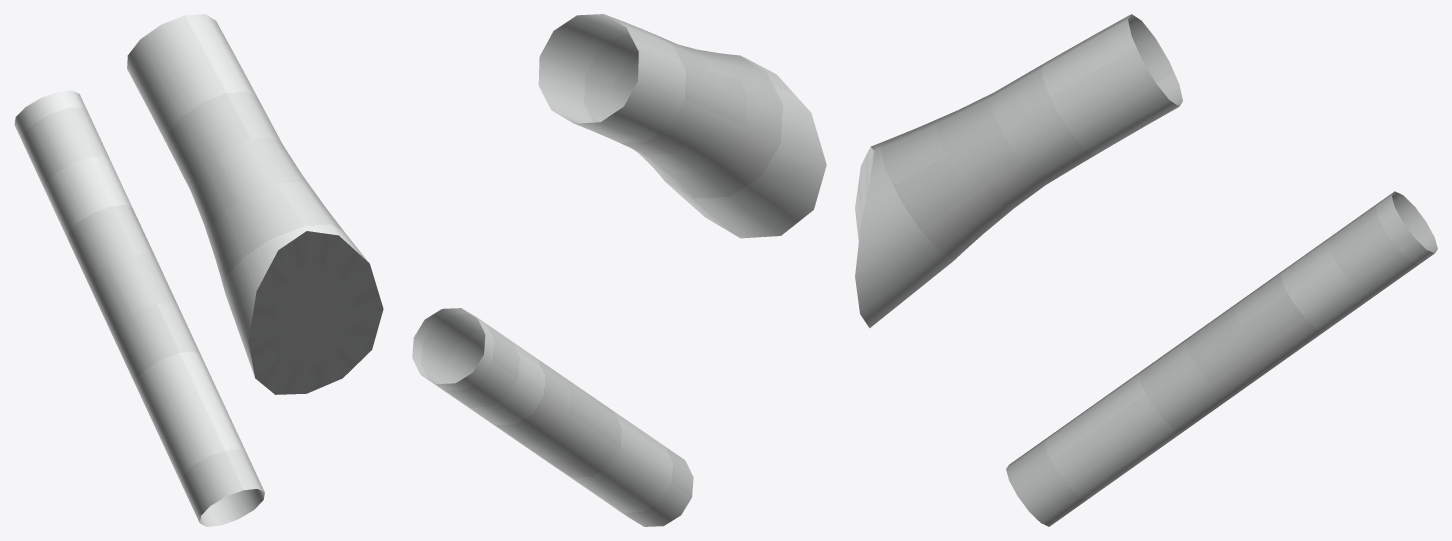
The model's file is luminairearm_truss10ftdouble_c0.obj.
3 renders of one model, left to right at view 1: azimuth 30°, elevation 25°; view 2: azimuth 150°, elevation 25°; view 3: azimuth 270°, elevation 25°, orthographic. The views are drawn at different scales.
Visible parts, largest first — view 1: luminairearm_truss10ftdouble_c0; view 2: luminairearm_truss10ftdouble_c0; view 3: luminairearm_truss10ftdouble_c0.
Part boxes in pixels (x1,y1,x2,y2): luminairearm_truss10ftdouble_c0: [14, 14, 383, 526]; luminairearm_truss10ftdouble_c0: [412, 14, 826, 526]; luminairearm_truss10ftdouble_c0: [855, 14, 1437, 526].
Bounding box in the file's own units: 0.3375 × 1.15 × 1.21.
